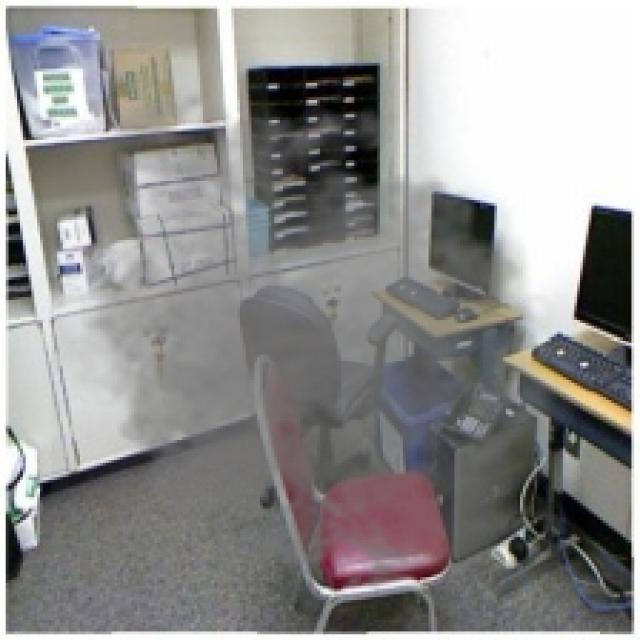smoke: (52, 74, 597, 600)
